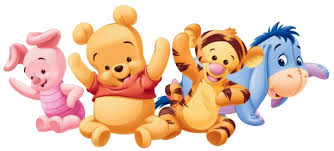Winnie: (77, 11, 155, 113)
